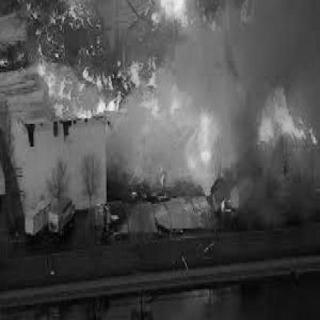Fire: (24, 1, 318, 200)
